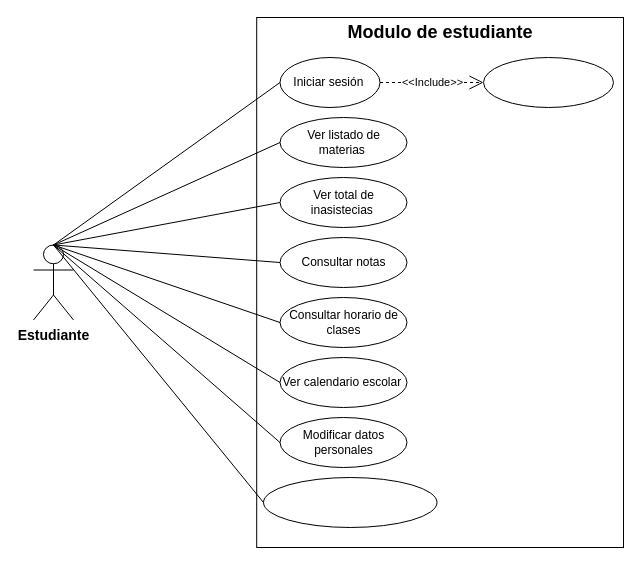
Image size: 641x565. Some labels were removed from this diagram. Here are the shapes that lost their labels. From the top down, the centre of each, then its label:
(548,82): Verifiacer credencial
(349,502): Descargar documentos isntitucionales
